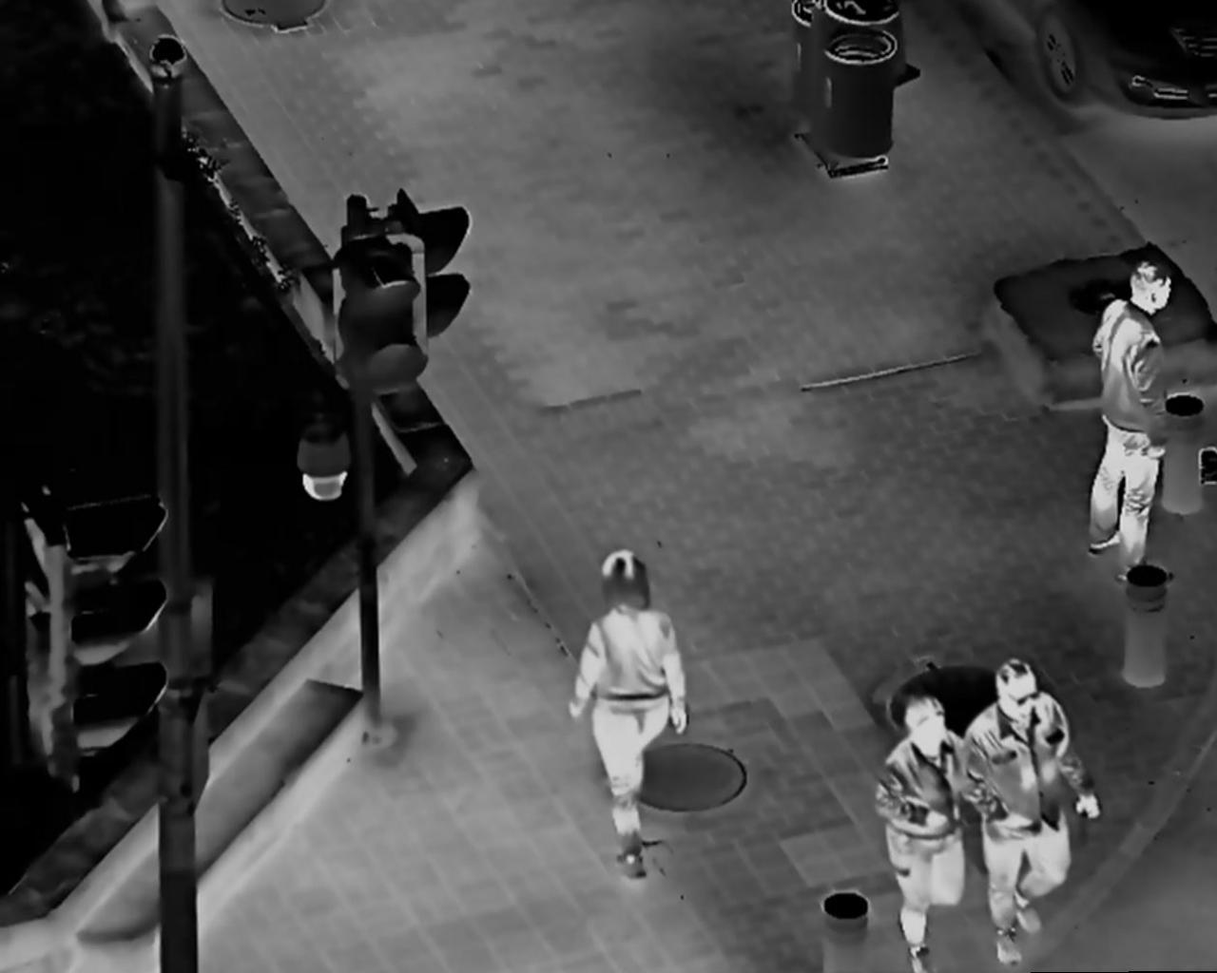person: (561, 544, 694, 886), (963, 651, 1103, 973), (861, 687, 995, 973), (1088, 257, 1185, 597)
